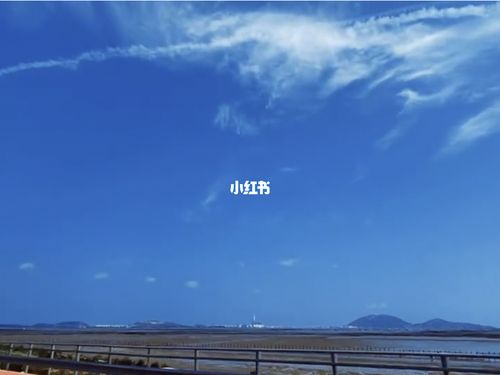sea_river: (295, 322, 497, 364)
sky_cloud: (17, 65, 487, 302)
